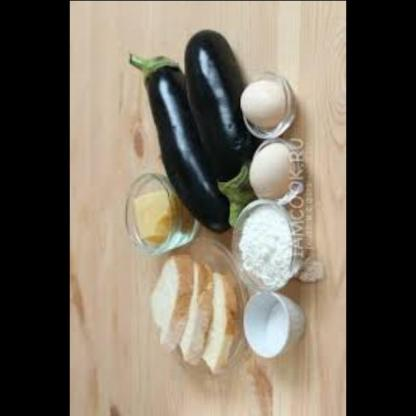eggplant: (110, 51, 232, 232), (184, 0, 247, 213)
